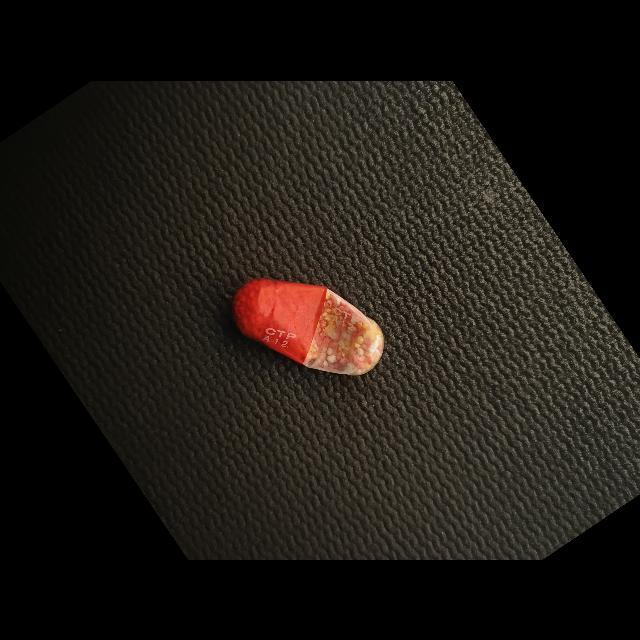Defective Capsule: (233, 277, 384, 375)
